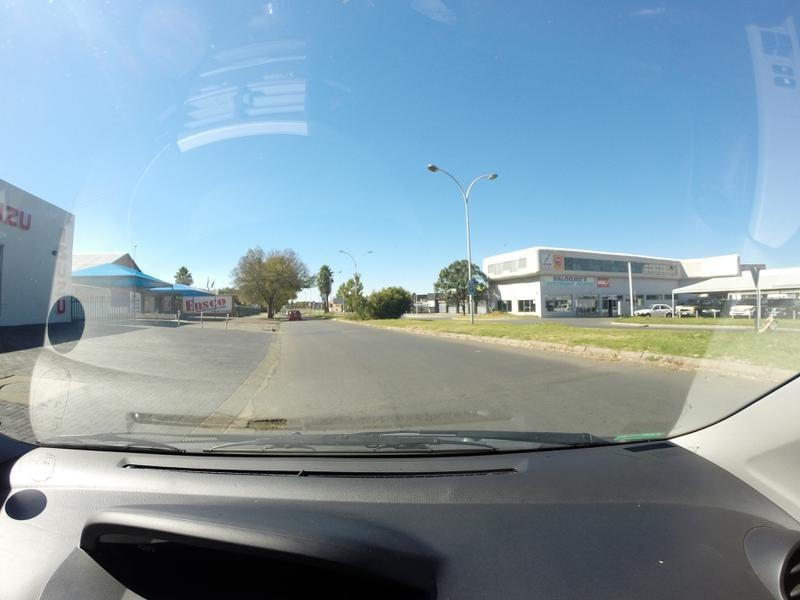pothole: (244, 410, 297, 432)
